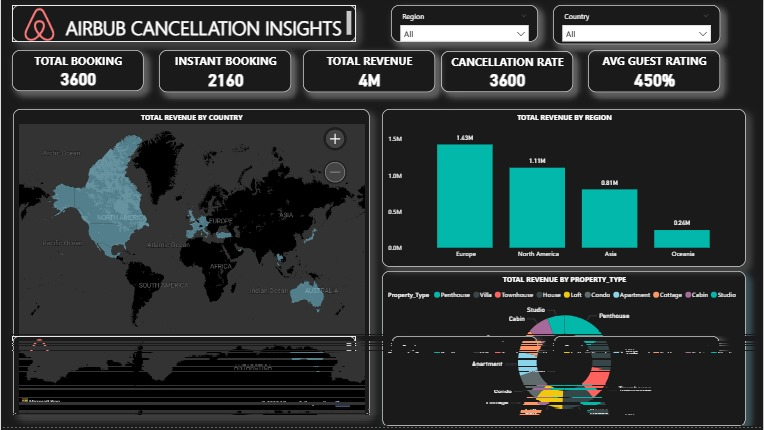

Layout of this report page (visuals, bound fields, positions):
{"tool":"powerbi","page":{"name":"page 3","canvas":[1280,720],"ordinal":2},"visuals":[{"type":"donutChart","title":"TOTAL REVENUE BY PROPERTY_TYPE","fields":{"Y":["airbnb_global_dataset.total revenue"],"Category":["airbnb_global_dataset.Property_Type"]},"box":[640,459.7,611.2,259.6],"z":0},{"type":"card","title":"TOTAL BOOKING","fields":{"Values":["airbnb_global_dataset.TOTAL BOKING"]},"box":[18.5,89.6,221.1,69.2],"z":1000},{"type":"card","title":"TOTAL REVENUE","fields":{"Values":["airbnb_global_dataset.total revenue"]},"box":[507.3,89,221.7,70.6],"z":2000},{"type":"card","title":"AVG GUEST RATING","fields":{"Values":["airbnb_global_dataset.AVG GUEST RATING"]},"box":[986,89,221.7,70.6],"z":3000},{"type":"image","box":[10.7,9.7,109.1,72.1],"z":4000},{"type":"card","title":"CANCELLATION RATE","fields":{"Values":["airbnb_global_dataset.INSTANT BOKING"]},"box":[739.1,90.7,221.7,68.9],"z":5000},{"type":"textbox","box":[18.5,13.4,577.8,62.2],"z":6000},{"type":"slicer","fields":{"Values":["airbnb_global_dataset.Region"]},"box":[655.1,13.4,246.9,62.2],"z":7000},{"type":"slicer","fields":{"Values":["airbnb_global_dataset.Country"]},"box":[927.2,13.4,280.5,65.5],"z":8000},{"type":"clusteredColumnChart","title":"TOTAL REVENUE BY REGION","fields":{"Y":["airbnb_global_dataset.total revenue"],"Category":["airbnb_global_dataset.Region"]},"box":[640,187.5,611.2,265],"z":9000},{"type":"filledMap","title":"TOTAL REVENUE BY COUNTRY","fields":{"Category":["airbnb_global_dataset.Country"]},"box":[19.8,187.5,598.5,513.8],"z":10000},{"type":"card","title":"INSTANT BOOKING","fields":{"Values":["airbnb_global_dataset.Instant Bookings"]},"box":[265.8,88.6,222.4,70.5],"z":11000}]}

Visuals, with their boxes in screenshot pixels (x1, y1, x2, y2), scaled from the page's 1280x720 canvas onto the 764x430 screenshot:
"TOTAL REVENUE BY PROPERTY_TYPE" donutChart: 382 275 747 429
"TOTAL BOOKING" card: 11 54 143 95
"TOTAL REVENUE" card: 303 53 435 95
"AVG GUEST RATING" card: 589 53 721 95
image: 6 6 72 49
"CANCELLATION RATE" card: 441 54 573 95
textbox: 11 8 356 45
slicer - airbnb_global_dataset.Region: 391 8 538 45
slicer - airbnb_global_dataset.Country: 553 8 721 47
"TOTAL REVENUE BY REGION" clusteredColumnChart: 382 112 747 270
"TOTAL REVENUE BY COUNTRY" filledMap: 12 112 369 419
"INSTANT BOOKING" card: 159 53 291 95
